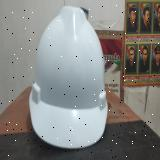Helmet: (29, 5, 108, 149)
